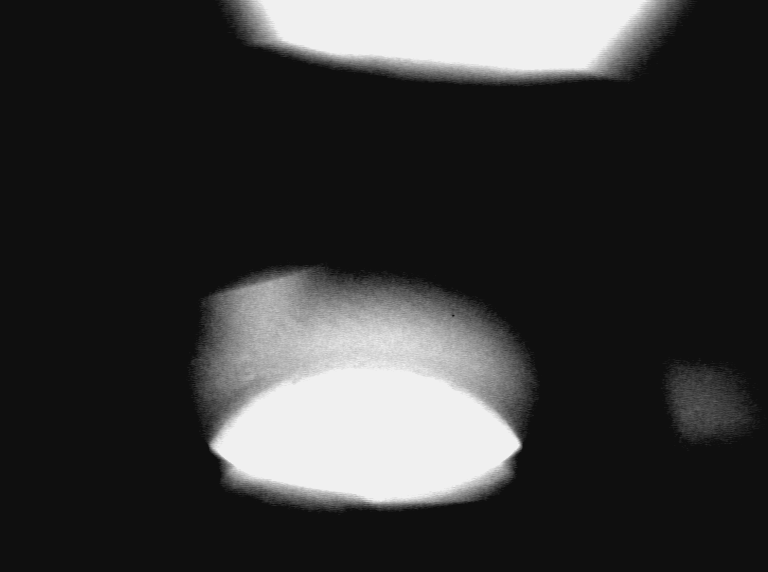defect: (185, 254, 318, 430)
